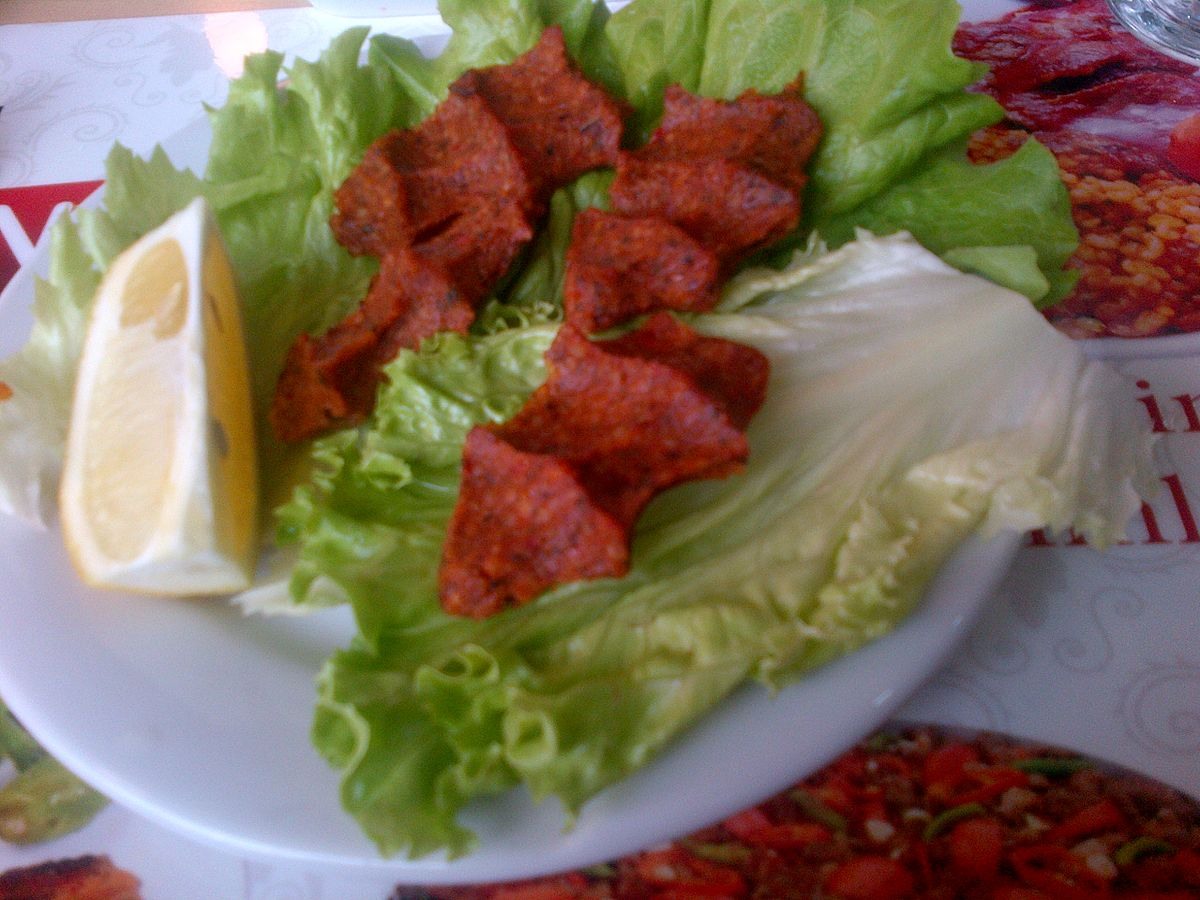ground_beef: (331, 333, 861, 614), (567, 92, 806, 366)
